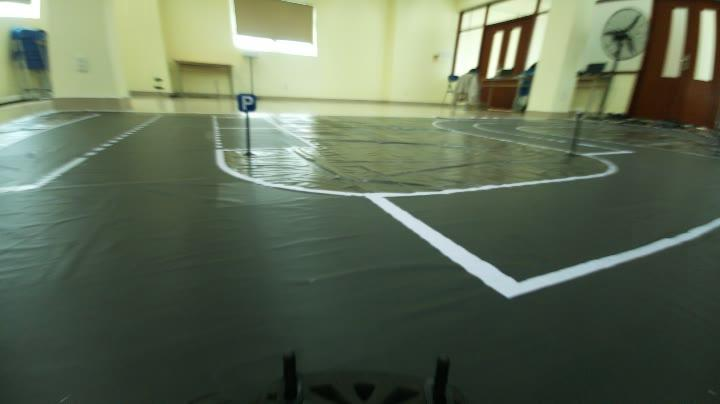parking: (226, 84, 264, 114)
